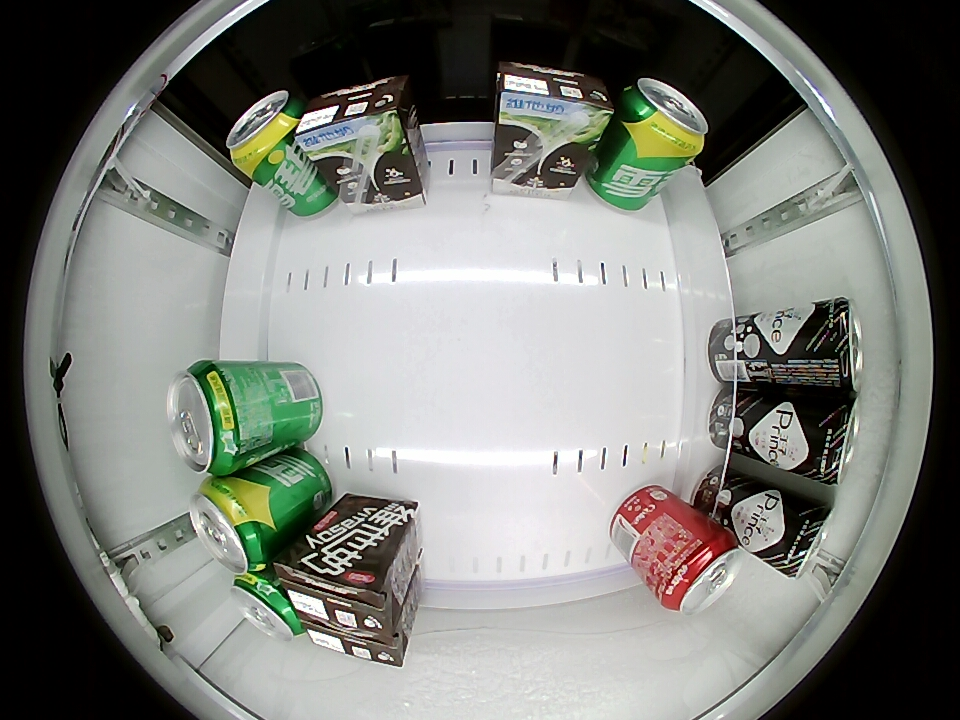kele: (656, 531, 742, 615)
qingdaowangzi-1: (801, 298, 863, 394), (799, 396, 861, 485), (775, 501, 833, 578)
weitanai2: (277, 540, 401, 637), (297, 76, 411, 158), (494, 63, 614, 137), (303, 620, 410, 668)
xuebi2: (168, 360, 251, 476), (189, 477, 279, 574), (617, 77, 709, 161), (226, 90, 303, 170), (231, 571, 304, 642)
